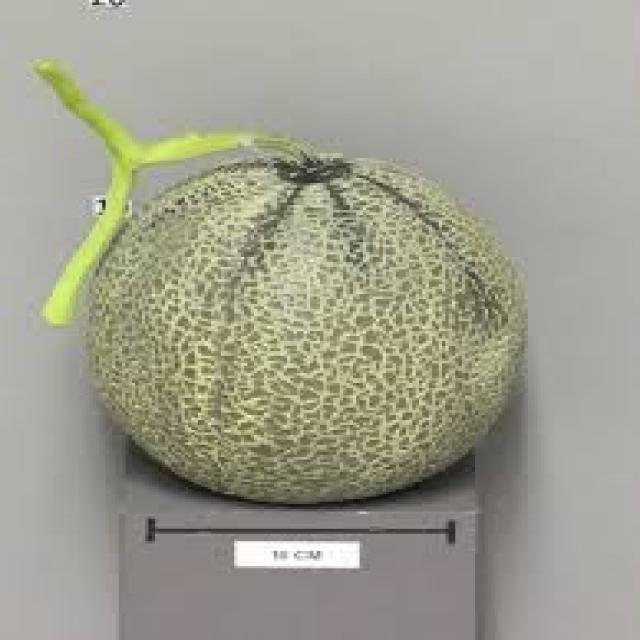Organik: (34, 54, 534, 510)
